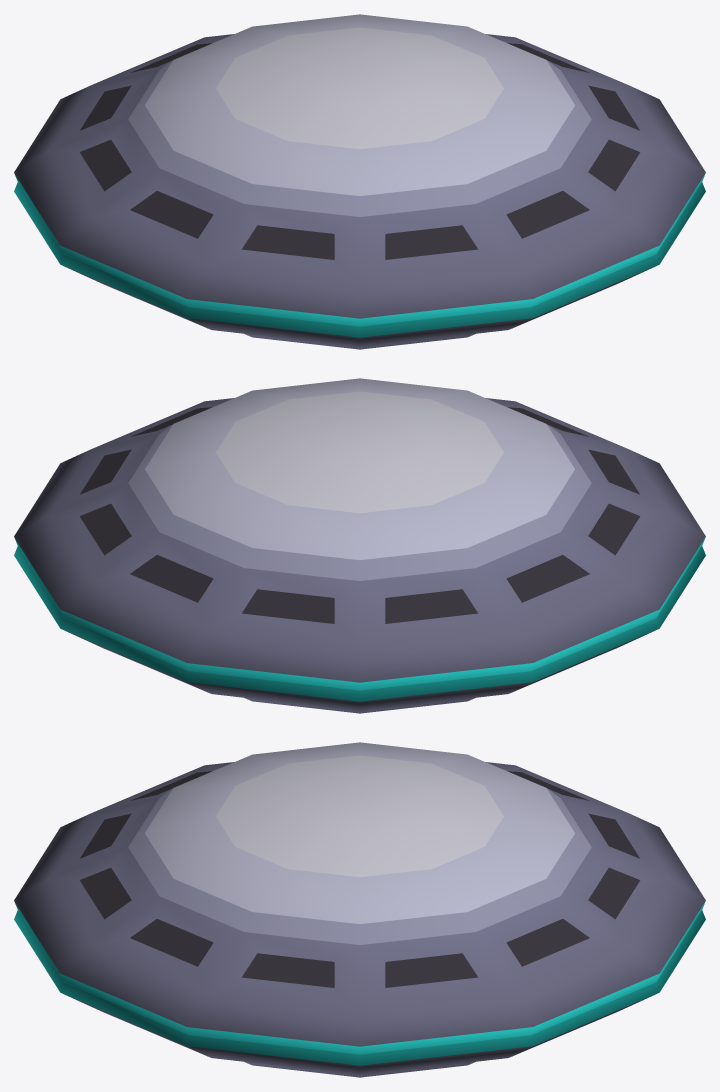
The model's file is Ship2.fbx.
3 views of the same model, one above another, from view 1: azimuth 30°, elevation 25°; view 2: azimuth 150°, elevation 25°; view 3: azimuth 270°, elevation 25° (orthographic).
Parts seen in each view (by area): view 1: Circle.001; view 2: Circle.001; view 3: Circle.001.
Boxes of the visible parts, box(x1,y1,x2,y2) form: Circle.001: box(14, 14, 705, 349); Circle.001: box(14, 378, 705, 713); Circle.001: box(14, 742, 705, 1077).
Size of the model in its own units: 202 by 71.24 by 202.
